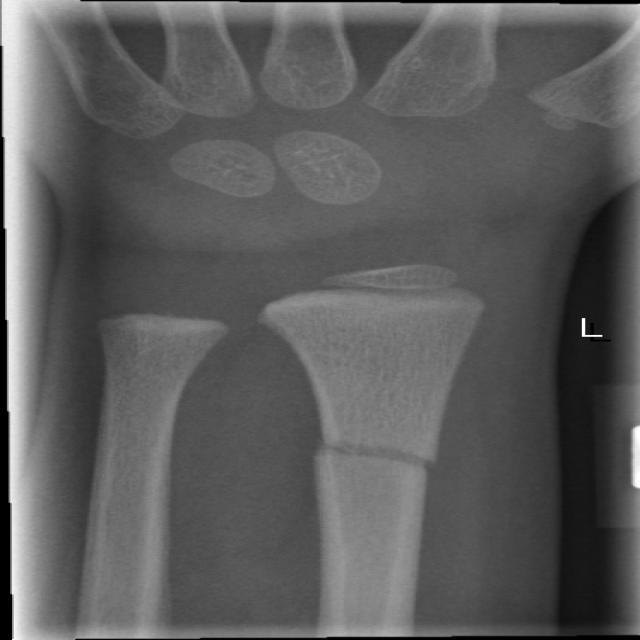radius fracture: (254, 370, 500, 570)
